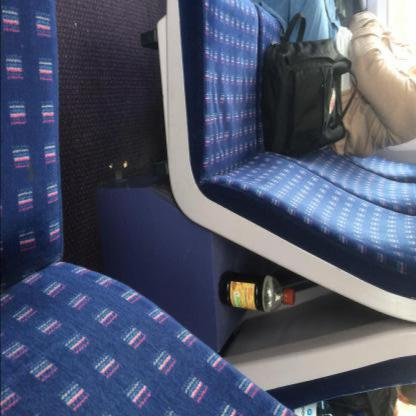Bottle: (286, 289, 295, 306)
Bottle cap: (218, 271, 295, 314), (291, 401, 364, 415)
